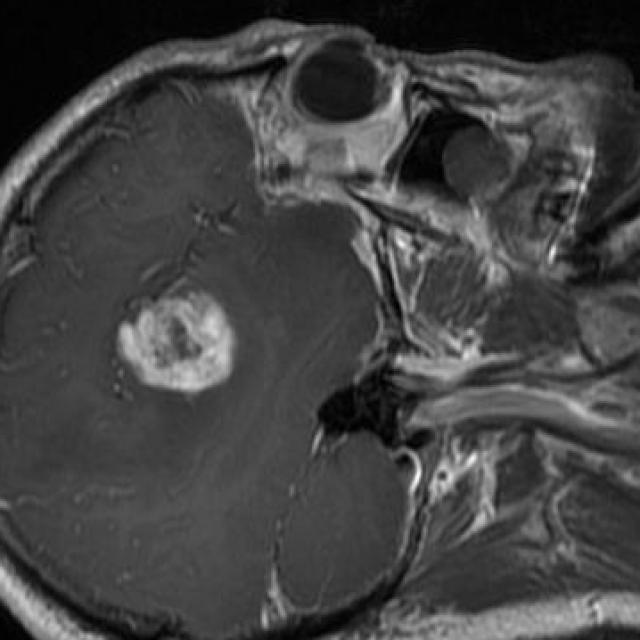glioma: (118, 292, 234, 396)
